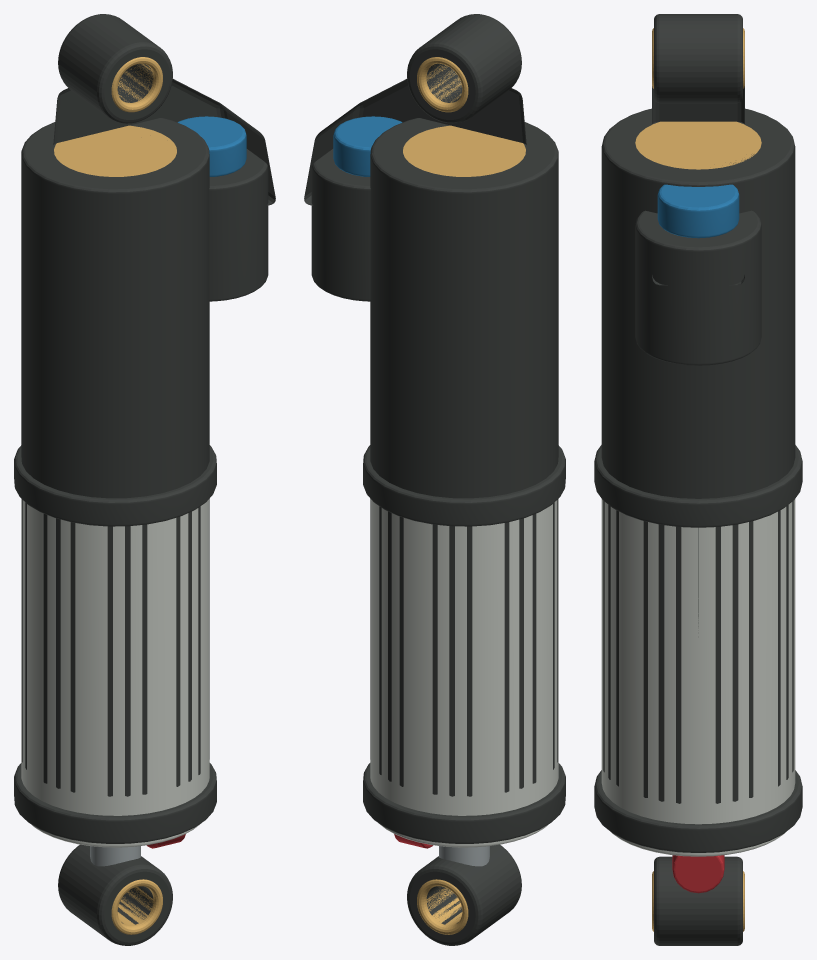
The model's file is fox-float-x2-factory-my26--c08b1465.glb.
3 views of the same model, side by side, from view 1: azimuth 30°, elevation 25°; view 2: azimuth 150°, elevation 25°; view 3: azimuth 270°, elevation 25° (orthographic). The views are drawn at different scales.
Visible parts, largest first — view 1: fox-float-x2-factory-my26--c08b1465__link, fox-float-x2-factory-my26--c08b1465__frame, fox-float-x2-factory-my26--c08b1465__stanchions, fox-float-x2-factory-my26--c08b1465__adjuster, fox-float-x2-factory-my26--c08b1465__bolts; view 2: fox-float-x2-factory-my26--c08b1465__link, fox-float-x2-factory-my26--c08b1465__frame, fox-float-x2-factory-my26--c08b1465__stanchions, fox-float-x2-factory-my26--c08b1465__adjuster, fox-float-x2-factory-my26--c08b1465__bolts; view 3: fox-float-x2-factory-my26--c08b1465__link, fox-float-x2-factory-my26--c08b1465__frame, fox-float-x2-factory-my26--c08b1465__stanchions, fox-float-x2-factory-my26--c08b1465__adjuster, fox-float-x2-factory-my26--c08b1465__rebound.
Boxes of the visible parts, left/top/right/bottom form: fox-float-x2-factory-my26--c08b1465__link: left=14, top=14, right=275, bottom=945; fox-float-x2-factory-my26--c08b1465__frame: left=21, top=499, right=209, bottom=847; fox-float-x2-factory-my26--c08b1465__stanchions: left=54, top=57, right=176, bottom=934; fox-float-x2-factory-my26--c08b1465__adjuster: left=177, top=116, right=246, bottom=176; fox-float-x2-factory-my26--c08b1465__bolts: left=90, top=846, right=140, bottom=866; fox-float-x2-factory-my26--c08b1465__link: left=304, top=14, right=565, bottom=945; fox-float-x2-factory-my26--c08b1465__frame: left=370, top=499, right=558, bottom=847; fox-float-x2-factory-my26--c08b1465__stanchions: left=403, top=57, right=525, bottom=934; fox-float-x2-factory-my26--c08b1465__adjuster: left=333, top=116, right=402, bottom=176; fox-float-x2-factory-my26--c08b1465__bolts: left=439, top=846, right=489, bottom=866; fox-float-x2-factory-my26--c08b1465__link: left=594, top=14, right=802, bottom=945; fox-float-x2-factory-my26--c08b1465__frame: left=601, top=499, right=795, bottom=856; fox-float-x2-factory-my26--c08b1465__stanchions: left=635, top=28, right=761, bottom=931; fox-float-x2-factory-my26--c08b1465__adjuster: left=657, top=184, right=739, bottom=238; fox-float-x2-factory-my26--c08b1465__rebound: left=672, top=855, right=724, bottom=893.
Size of the model in its own units: 0.074 by 0.274 by 0.056.
